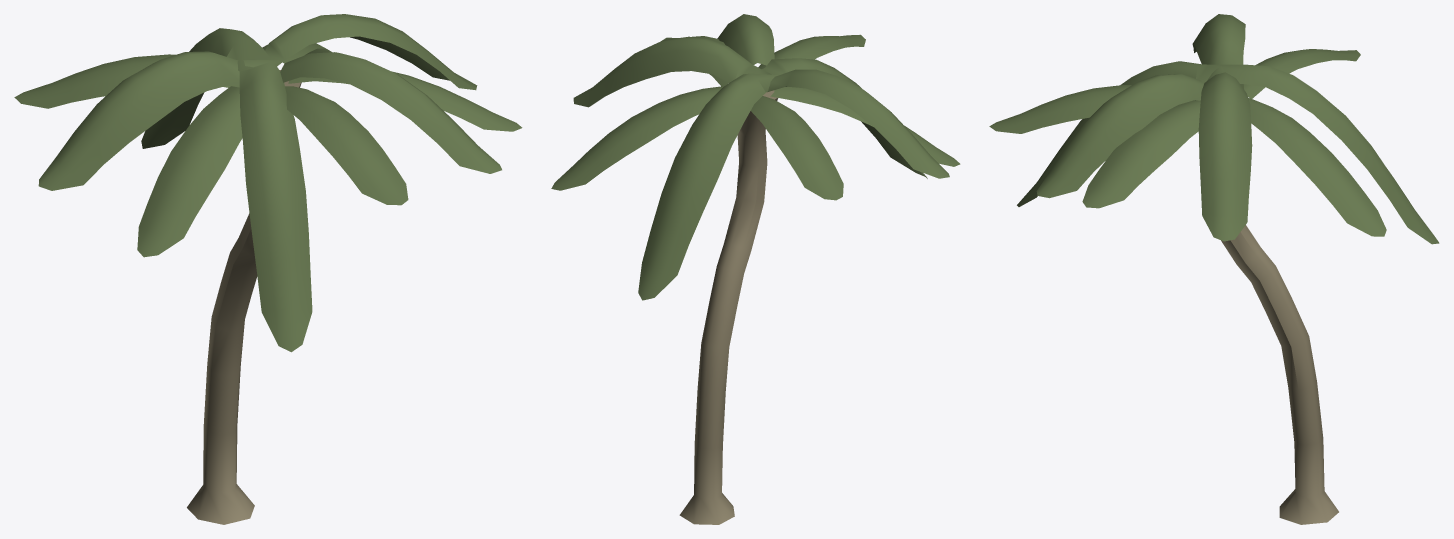
File: palma SB1.fbx
The picture shows the model from 3 angles, left to right: view 1: azimuth 30°, elevation 25°; view 2: azimuth 150°, elevation 25°; view 3: azimuth 270°, elevation 25°; orthographic projection. The views are drawn at different scales.
Parts seen in each view (by area): view 1: Cylinder; view 2: Cylinder; view 3: Cylinder.
Boxes of the visible parts, bbox=[...] form: Cylinder: bbox=[14, 14, 522, 524]; Cylinder: bbox=[551, 14, 960, 524]; Cylinder: bbox=[989, 14, 1439, 524].
Bounding box in the file's own units: 1437 × 1597 × 1434.
